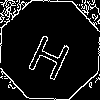H: (25, 25, 77, 82)
